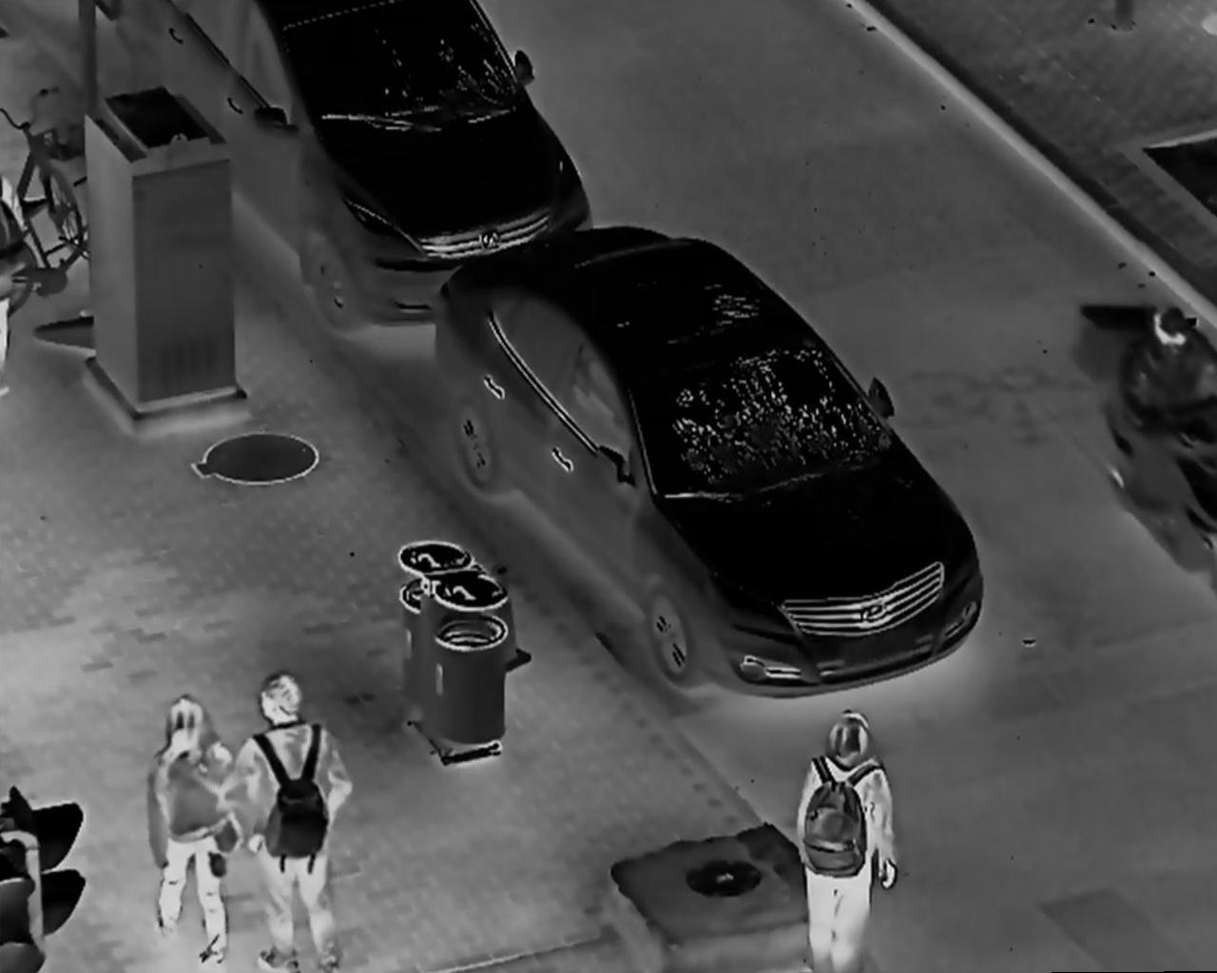person: (226, 672, 357, 973), (795, 706, 903, 973), (139, 694, 246, 961), (1122, 297, 1217, 546)
